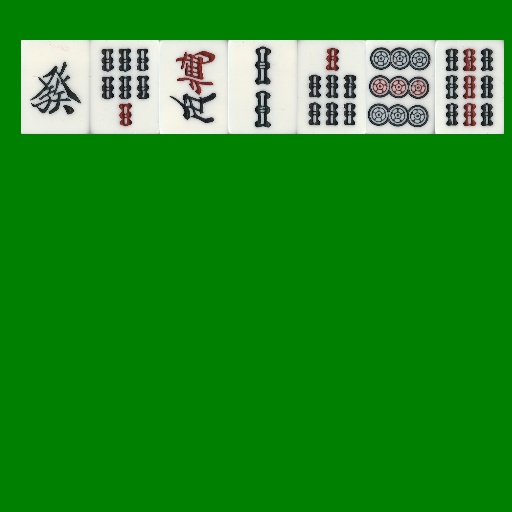2s: (228, 40, 297, 134)
5m: (159, 40, 228, 134)
7s: (90, 40, 159, 134), (297, 40, 366, 134)
9p: (366, 40, 435, 134)
9s: (435, 40, 504, 134)
hatsu: (21, 40, 90, 134)
